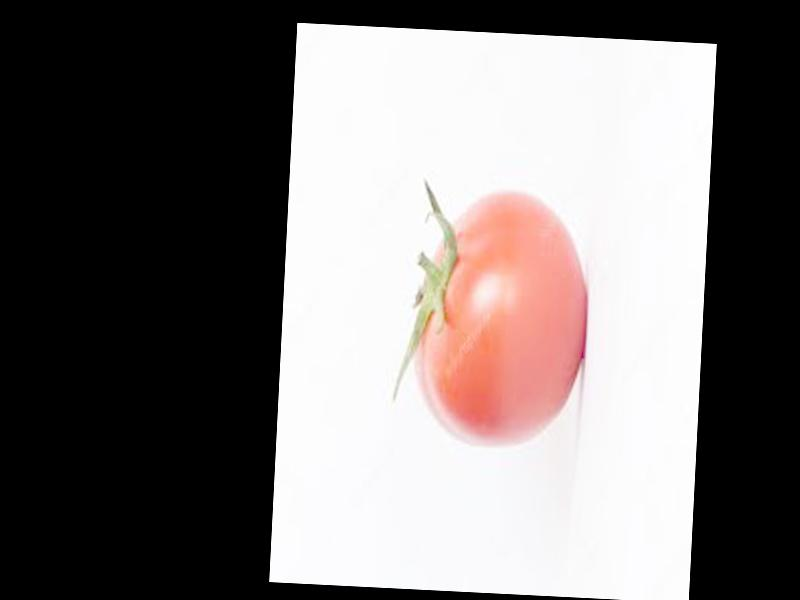Tomato: (412, 187, 594, 454)
